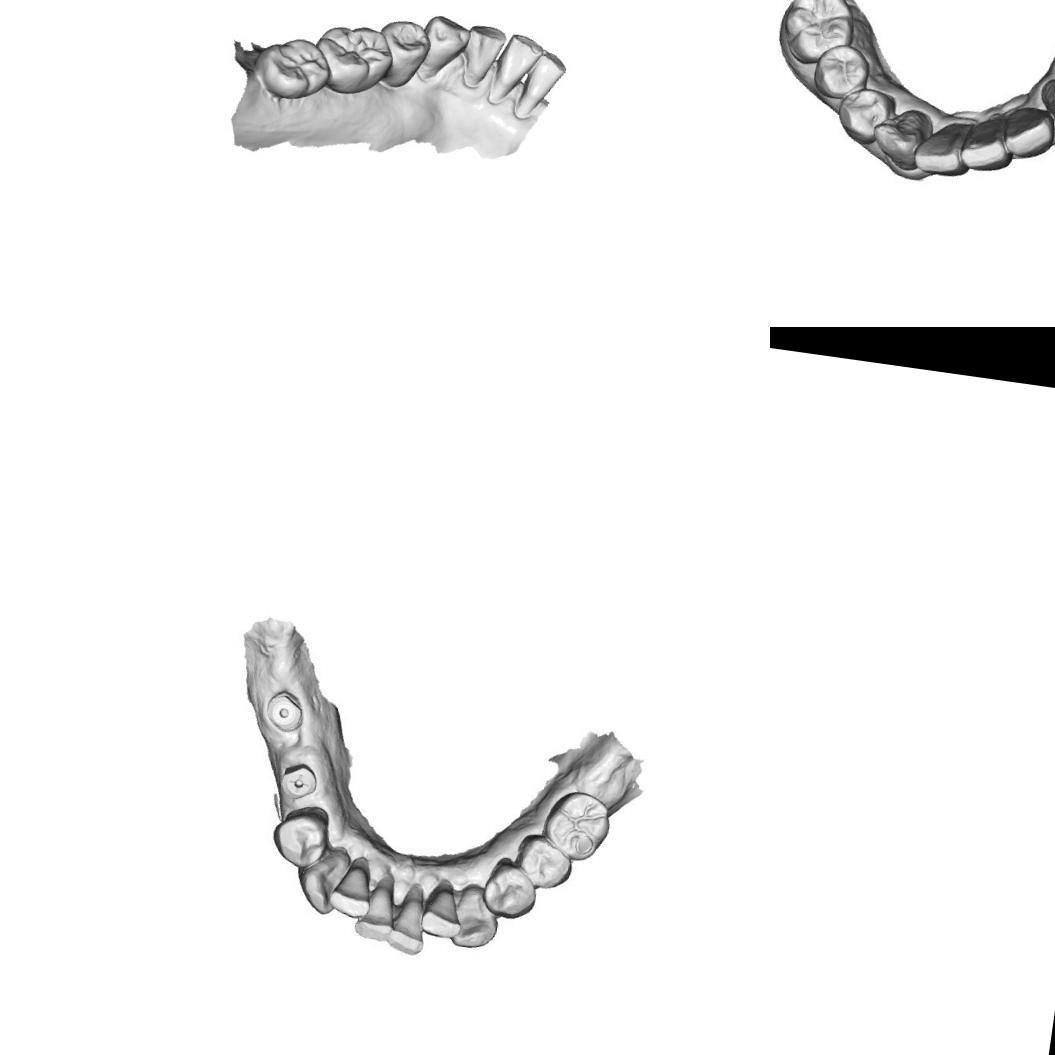canine: (416, 12, 474, 82), (872, 102, 932, 167), (298, 850, 348, 912), (449, 888, 500, 948), (1037, 69, 1055, 131)
implant: (260, 686, 312, 736)
implant_plus: (276, 756, 322, 804)
incisor: (490, 26, 548, 105), (518, 45, 574, 118), (457, 20, 510, 94), (352, 873, 404, 948), (328, 855, 378, 923), (388, 882, 432, 959), (958, 114, 1014, 174), (914, 122, 969, 178), (419, 880, 464, 942), (1004, 107, 1055, 161)
molar: (309, 20, 396, 103), (251, 31, 339, 106), (774, 0, 857, 70), (544, 786, 614, 860)
premolar: (372, 17, 435, 95), (477, 856, 542, 922), (515, 832, 575, 893), (269, 808, 328, 865), (812, 42, 868, 100), (840, 90, 894, 140)
